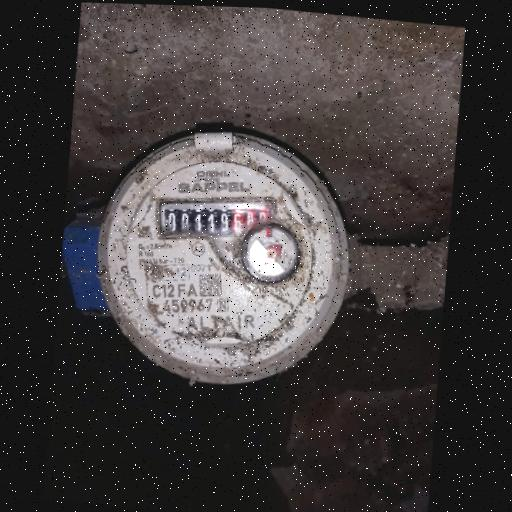0: (163, 207, 183, 235), (176, 207, 196, 234)
1: (203, 208, 222, 235), (190, 208, 208, 234)
6: (229, 208, 248, 234)
8: (243, 208, 262, 235)
9: (217, 208, 236, 236), (257, 208, 273, 227)
border_water_meter_number: (152, 183, 281, 252)
